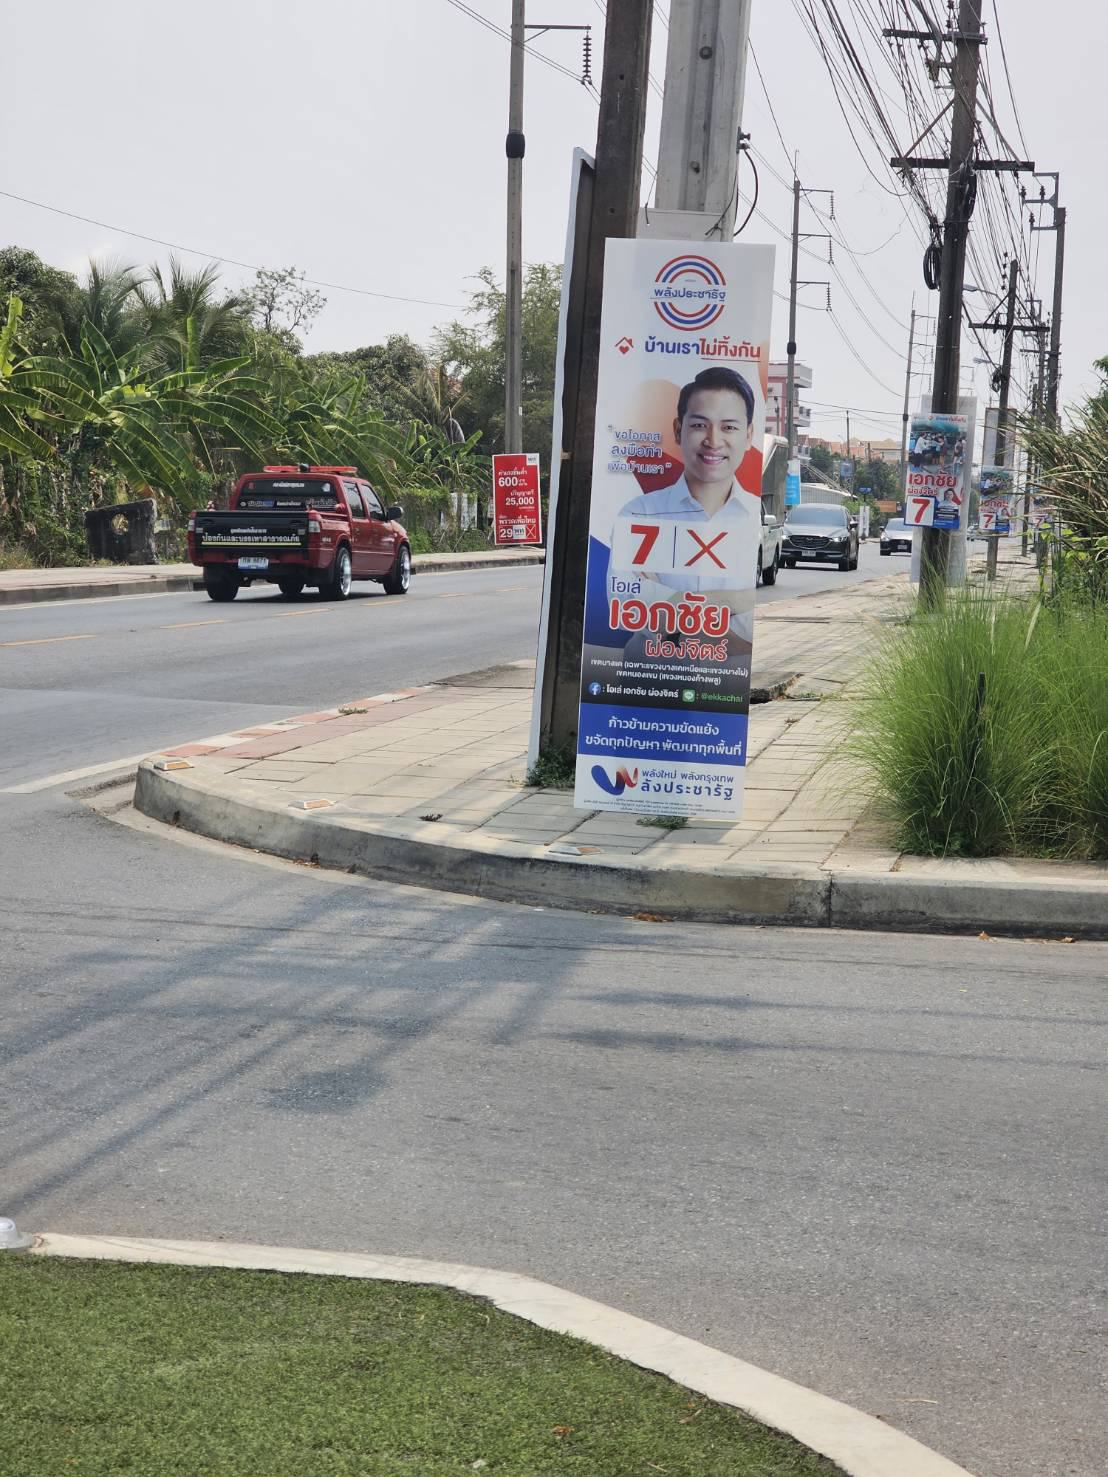Banner: (554, 237, 777, 835)
